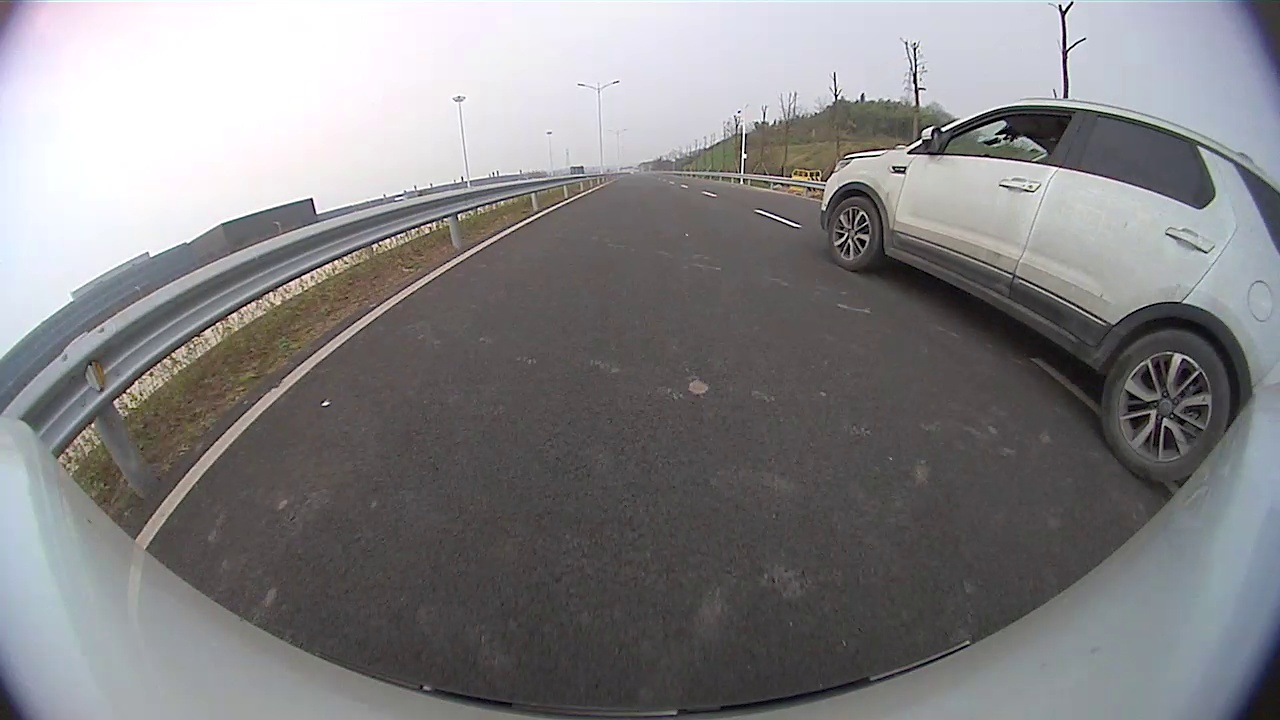car: (821, 98, 1279, 482)
front: (828, 196, 882, 272)
rear: (1103, 328, 1232, 479)
